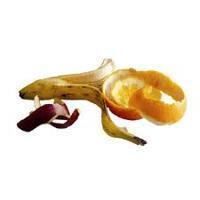biodegradable: (15, 57, 188, 146)
